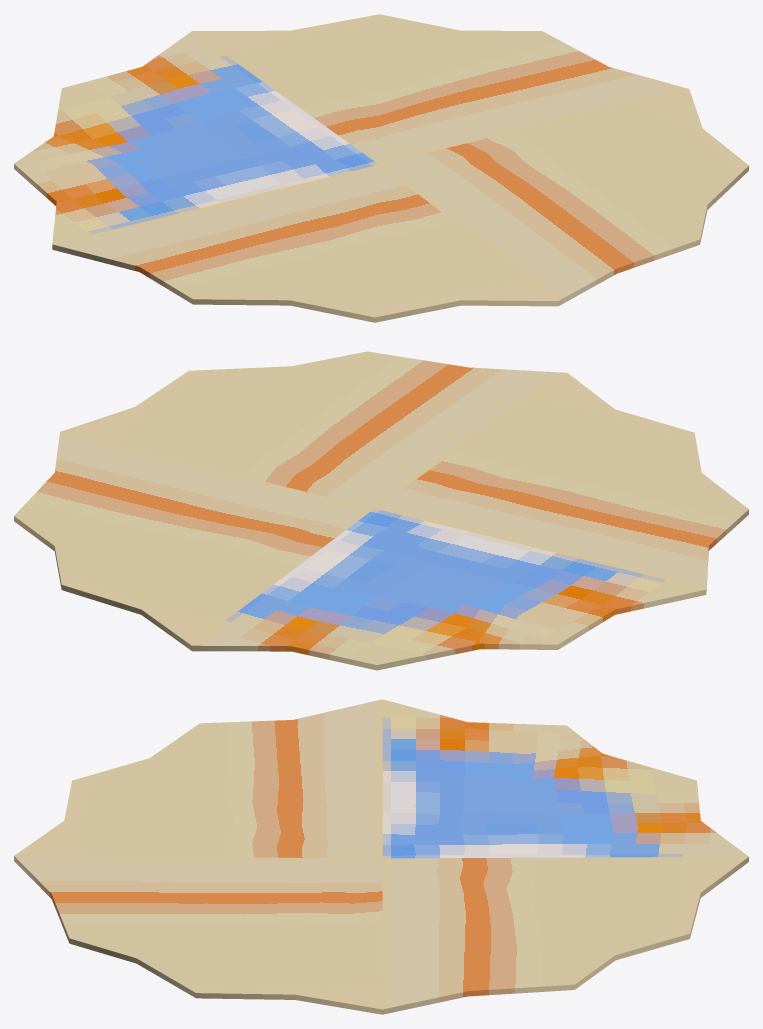
File: a_com_house_a01_coaster01_plaid.gltf
3 views of the same model, one above another, from view 1: azimuth 30°, elevation 25°; view 2: azimuth 150°, elevation 25°; view 3: azimuth 270°, elevation 25° (orthographic).
Visible parts, largest first — view 1: a_com_house_a01_coaster01_mesh1_shape:a_com_house_a01_coaste; view 2: a_com_house_a01_coaster01_mesh1_shape:a_com_house_a01_coaste; view 3: a_com_house_a01_coaster01_mesh1_shape:a_com_house_a01_coaste.
Boxes of the visible parts, box(x1,y1,x2,y2) form: a_com_house_a01_coaster01_mesh1_shape:a_com_house_a01_coaste: box(14, 14, 748, 322); a_com_house_a01_coaster01_mesh1_shape:a_com_house_a01_coaste: box(14, 351, 748, 670); a_com_house_a01_coaster01_mesh1_shape:a_com_house_a01_coaste: box(14, 699, 748, 1014).
Bounding box in the file's own units: 0.5052 × 0.00403 × 0.5058.
Materials: 1 (1 with a texture image).
